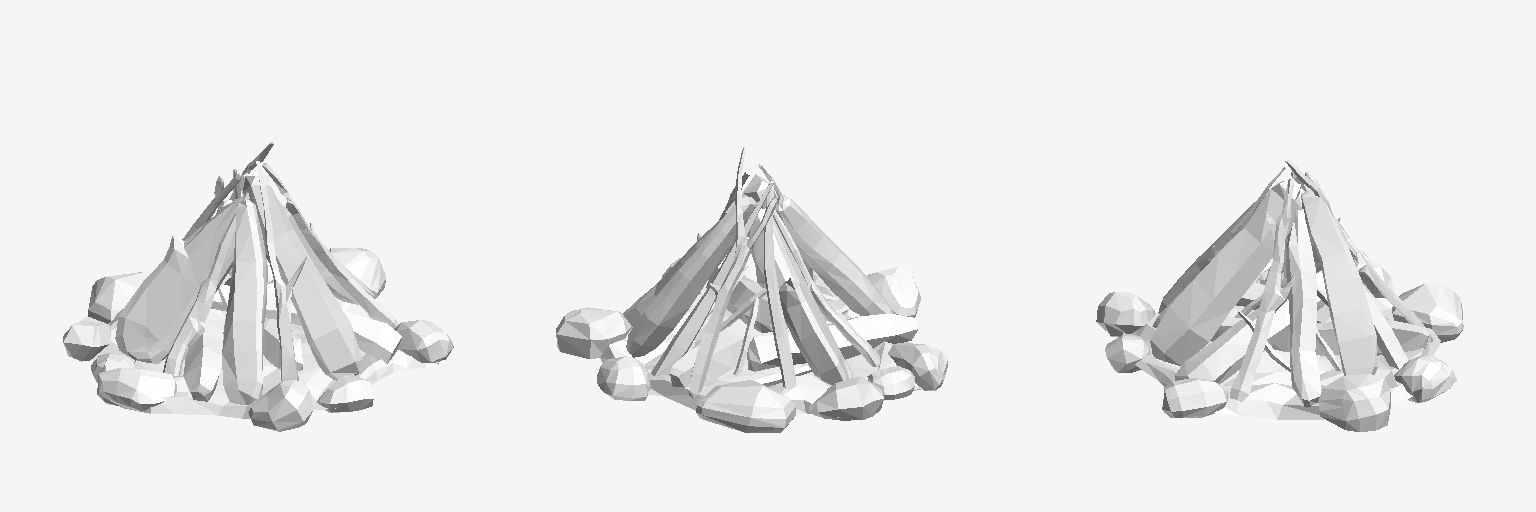
File: fireplace.obj
3 renders of one model, left to right at view 1: azimuth 30°, elevation 25°; view 2: azimuth 150°, elevation 25°; view 3: azimuth 270°, elevation 25°, orthographic.
Parts seen in each view (by area): view 1: Campfire; view 2: Campfire; view 3: Campfire.
Boxes of the visible parts, box(x1,y1,x2,y2) form: Campfire: box(63, 142, 453, 431); Campfire: box(556, 147, 947, 432); Campfire: box(1096, 159, 1463, 431).
Bounding box in the file's own units: 97.99 × 60.11 × 94.05.